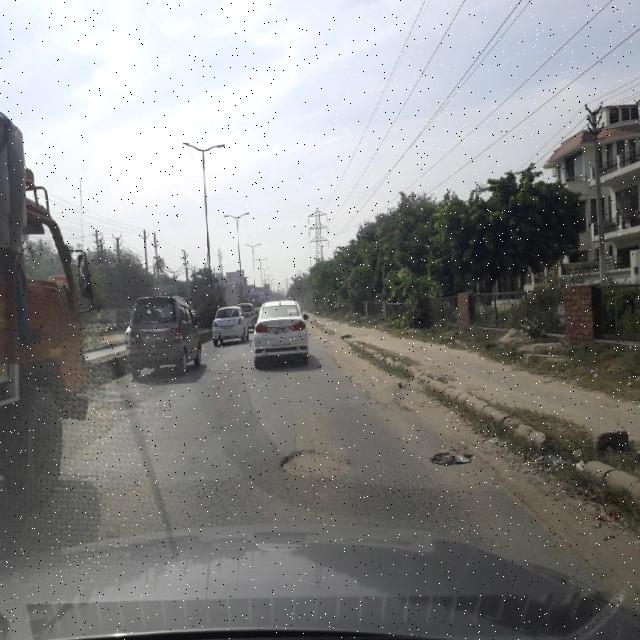D40: (278, 444, 358, 479)
